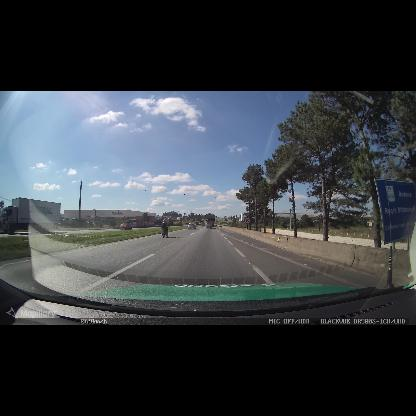R-6c: (244, 217, 250, 224)
